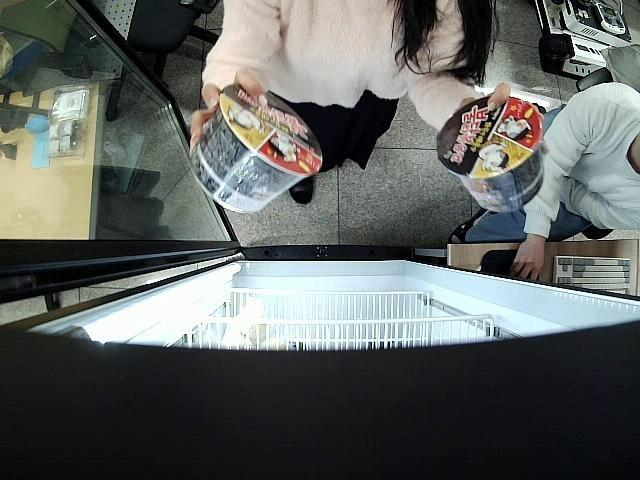07_buldak_L: (192, 82, 323, 215), (437, 95, 548, 214)
